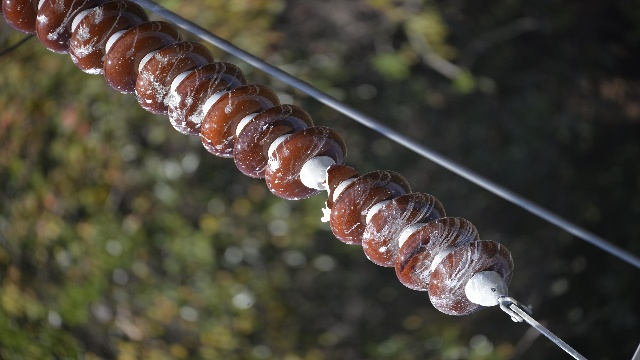broken_local: (316, 162, 356, 225)
insulator_unspecified: (3, 0, 514, 315)
